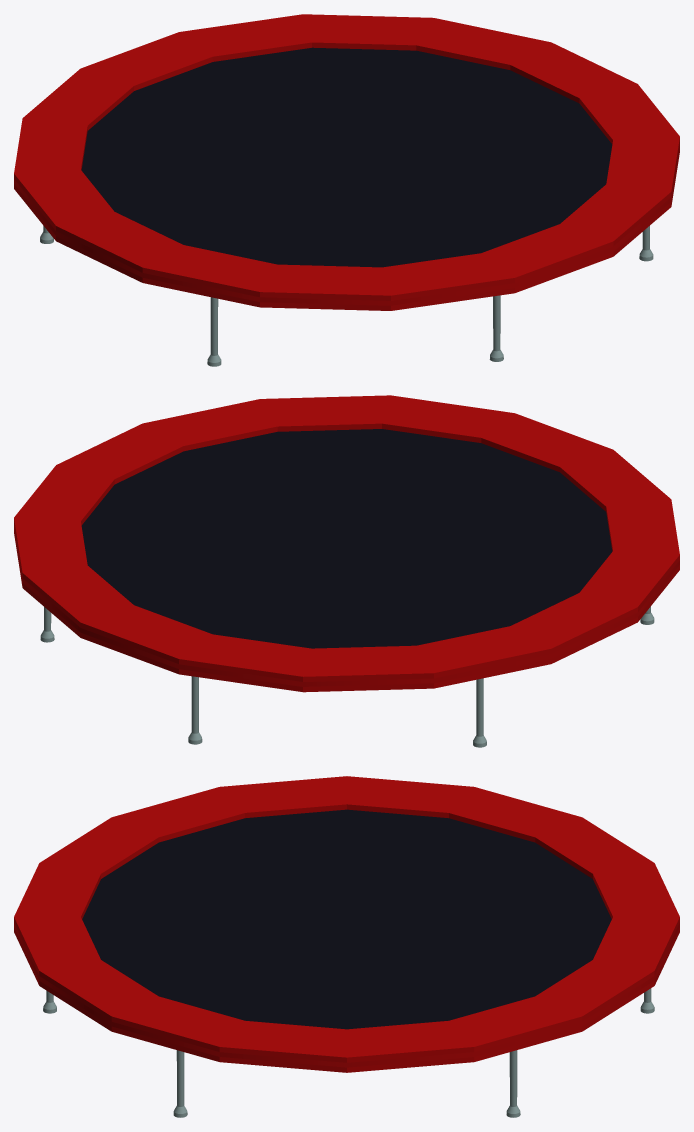
Rendered from F_Trampoline_01.fbx.
The picture shows the model from 3 angles, top to bottom: view 1: azimuth 30°, elevation 25°; view 2: azimuth 150°, elevation 25°; view 3: azimuth 270°, elevation 25°; orthographic projection.
Parts seen in each view (by area): view 1: F_Trampoline_01; view 2: F_Trampoline_01; view 3: F_Trampoline_01.
Boxes of the visible parts, x1=… form: F_Trampoline_01: x1=14, y1=14, x2=679, y2=366; F_Trampoline_01: x1=14, y1=395, x2=679, y2=747; F_Trampoline_01: x1=14, y1=776, x2=679, y2=1117.
Size of the model in its own units: 250 by 38.86 by 250.
